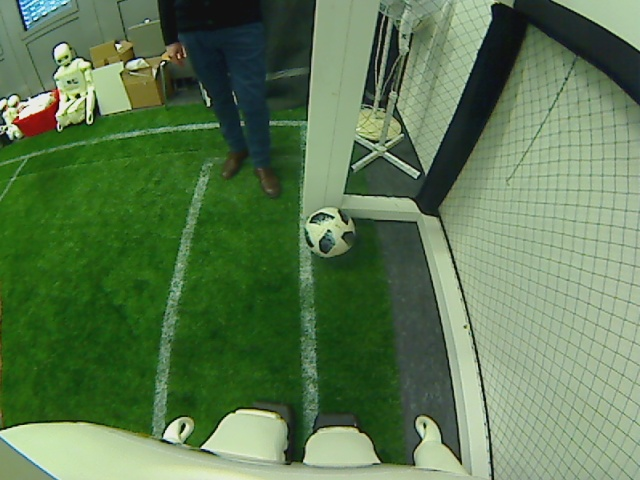ball: (305, 206, 357, 257)
